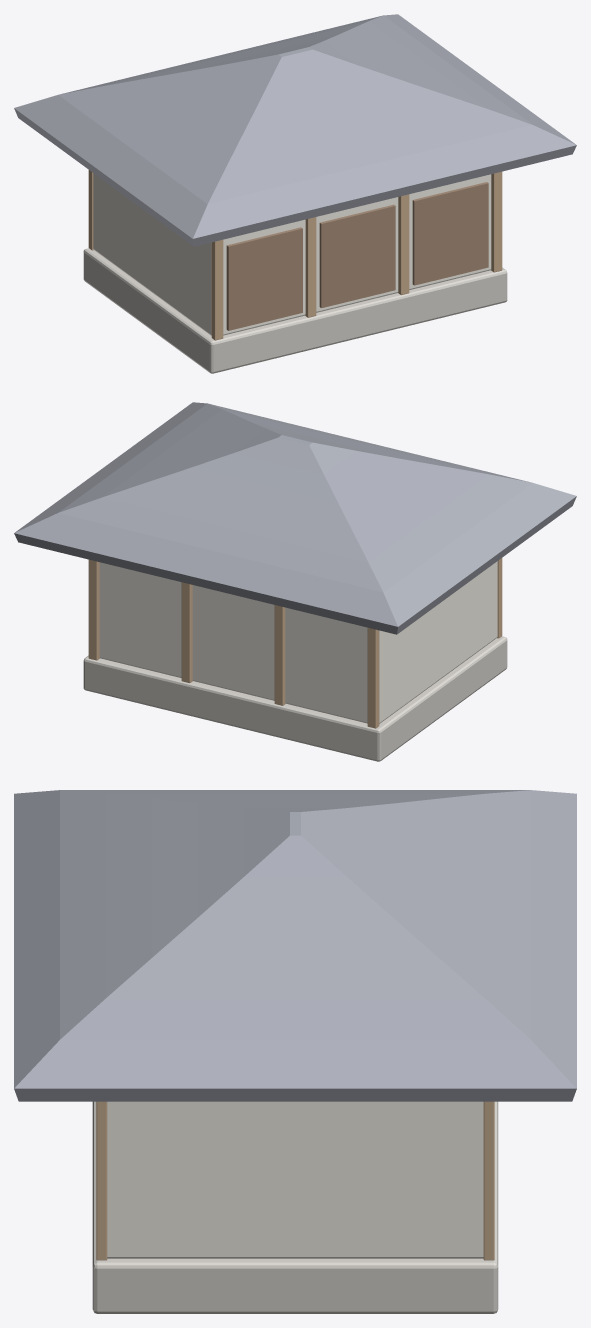
The model's file is lm_japao_house.glb.
3 renders of one model, top to bottom at view 1: azimuth 30°, elevation 25°; view 2: azimuth 150°, elevation 25°; view 3: azimuth 270°, elevation 25°, orthographic. The views are drawn at different scales.
Visible parts, largest first — view 1: lm_japao_house; view 2: lm_japao_house; view 3: lm_japao_house.
Part boxes in pixels (<box>): lm_japao_house: <box>14,14,576,373</box>; lm_japao_house: <box>14,402,576,761</box>; lm_japao_house: <box>14,790,576,1313</box>.
Size of the model in its own units: 6.2 by 3.7 by 5.
